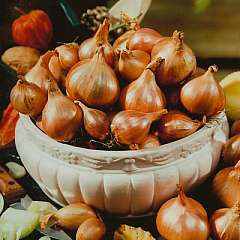onion: (64, 45, 119, 109), (156, 186, 210, 239), (122, 55, 165, 119), (181, 64, 227, 123), (112, 111, 170, 146)
